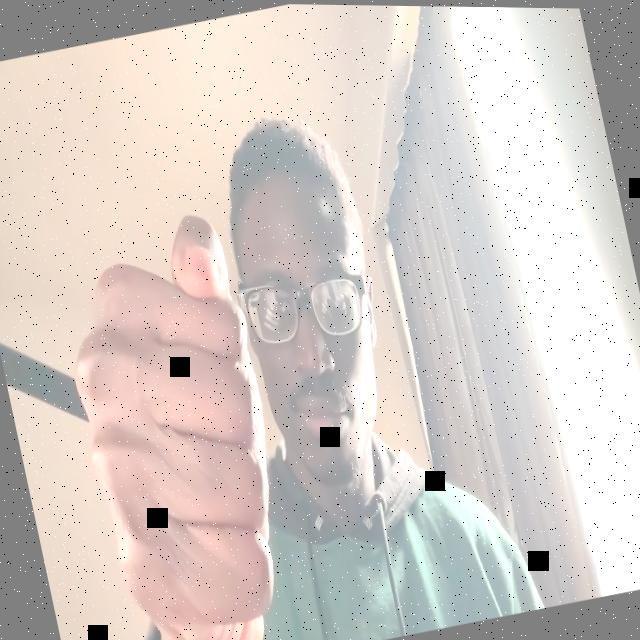Rock: (45, 202, 316, 640)
